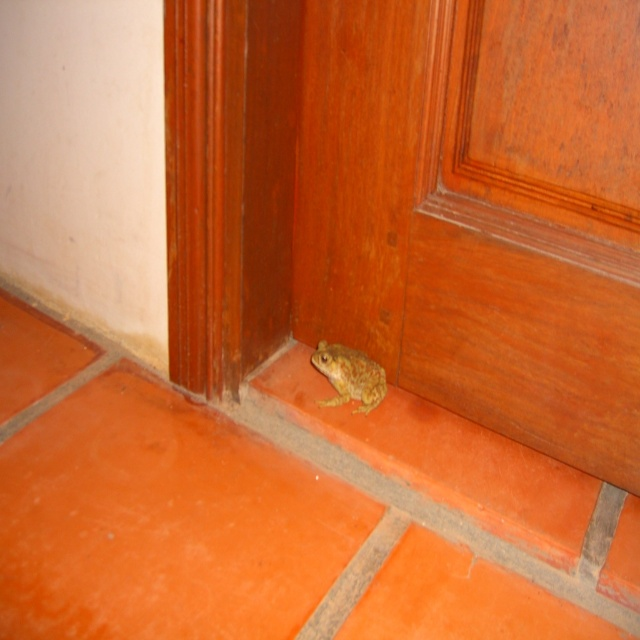Frog: (310, 339, 388, 421)
